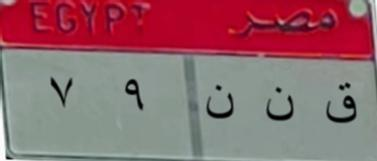7: (40, 72, 80, 110)
9: (119, 73, 148, 116)
noon: (258, 86, 300, 127), (203, 82, 238, 123)
qaaf: (322, 78, 360, 135)
